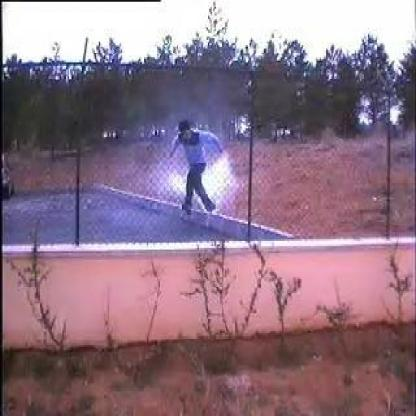-: (198, 155, 235, 199)
